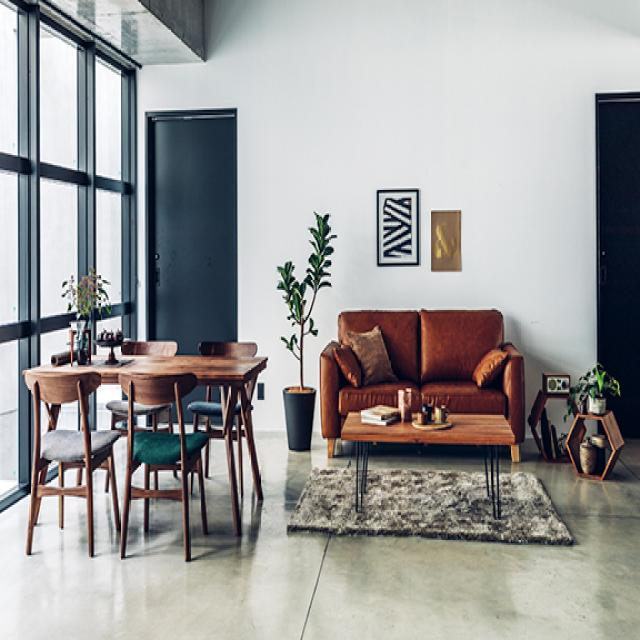vintage chair: (22, 370, 118, 554), (119, 372, 208, 563)
vintage desk: (20, 354, 266, 540), (339, 412, 515, 521)
vintage sofa: (320, 309, 528, 418)
